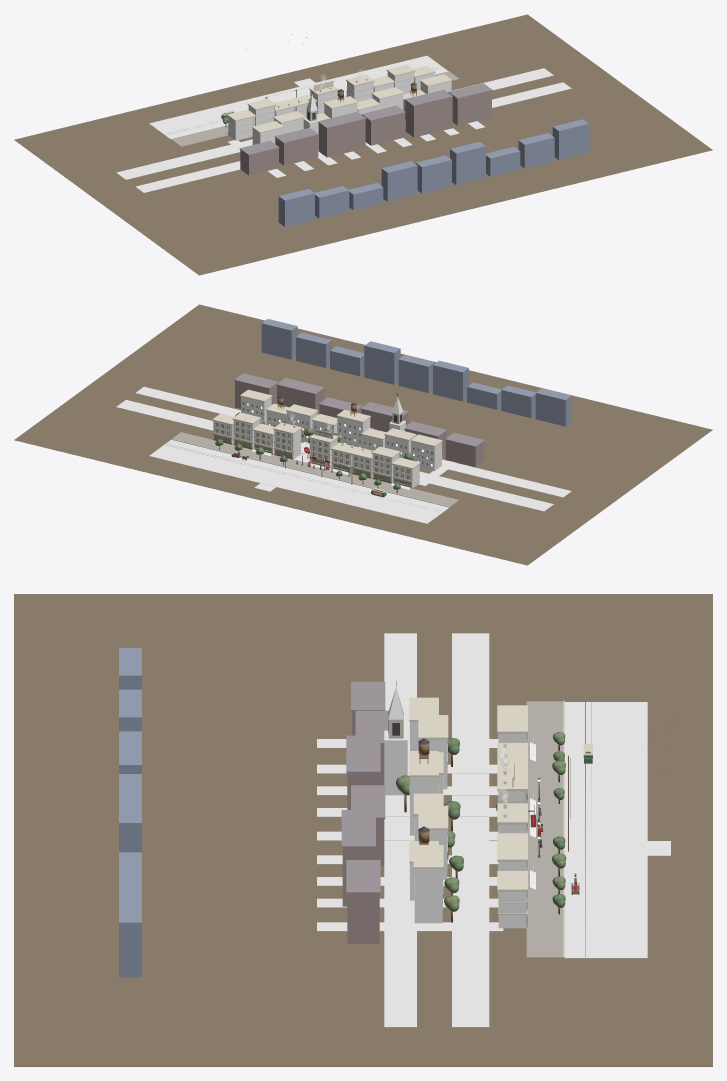
Rendered from coca-cola-diorama.glb.
The picture shows the model from 3 angles, top to bottom: view 1: azimuth 30°, elevation 25°; view 2: azimuth 150°, elevation 25°; view 3: azimuth 270°, elevation 25°; orthographic projection. The views are drawn at different scales.
Parts seen in each view (by area): view 1: BG_ground, MainStreet, BackStreet, BackStreet2, BGhaze.003, BGhaze.001, Skyline_20, Skyline_-12, Skyline_68, Skyline_-60, Skyline_4, BGhaze.005 (+10 smaller); view 2: BG_ground, MainStreet, Sidewalk, BackStreet, BackStreet2, Skyline_20, Skyline_68, Skyline_-12, Skyline_-60, Skyline_4, Skyline_52, Skyline_-44 (+11 smaller); view 3: BG_ground, MainStreet, BackStreet, BackStreet2, Sidewalk, Skyline_68, BGhaze.005, BGb_42_-18, BGcross_49, BGhazc.001, Skyline_20, BGhazc.003 (+19 smaller).
Part boxes in pixels (box(x1,y1,x2,y2)): BG_ground: box(14, 14, 712, 275); MainStreet: box(149, 55, 448, 139); BackStreet: box(116, 68, 553, 179); BackStreet2: box(135, 82, 571, 192); BGhaze.003: box(405, 97, 452, 137); BGhaze.001: box(318, 119, 365, 157); Skyline_20: box(450, 141, 485, 185); Skyline_-12: box(381, 161, 417, 201); Skyline_68: box(552, 119, 588, 159); Skyline_-60: box(278, 189, 314, 226); Skyline_4: box(415, 155, 451, 193); BGhaze.005: box(452, 91, 491, 125); BG_ground: box(14, 304, 712, 565); MainStreet: box(149, 439, 449, 523); Sidewalk: box(172, 432, 458, 507); BackStreet: box(116, 400, 553, 511); BackStreet2: box(135, 386, 571, 497); Skyline_20: box(364, 341, 400, 384); Skyline_68: box(261, 319, 297, 359); Skyline_-12: box(433, 360, 468, 401); Skyline_-60: box(535, 388, 571, 426); Skyline_4: box(398, 355, 434, 392); Skyline_52: box(296, 332, 331, 367); Skyline_-44: box(501, 385, 535, 417); BG_ground: box(14, 594, 712, 1066); MainStreet: box(564, 702, 647, 958); BackStreet: box(452, 633, 489, 1027); BackStreet2: box(384, 633, 416, 1027); Sidewalk: box(526, 701, 563, 957); Skyline_68: box(119, 895, 141, 977); BGhaze.005: box(347, 894, 379, 943); BGb_42_-18: box(414, 869, 442, 923); BGcross_49: box(317, 922, 503, 931); BGhazc.001: box(346, 735, 380, 773); Skyline_20: box(119, 795, 141, 852); BGhazc.003: box(341, 810, 375, 847).
Size of the model in its own units: 240 by 34.7 by 150.
Materials: 70 (7 with a texture image).
